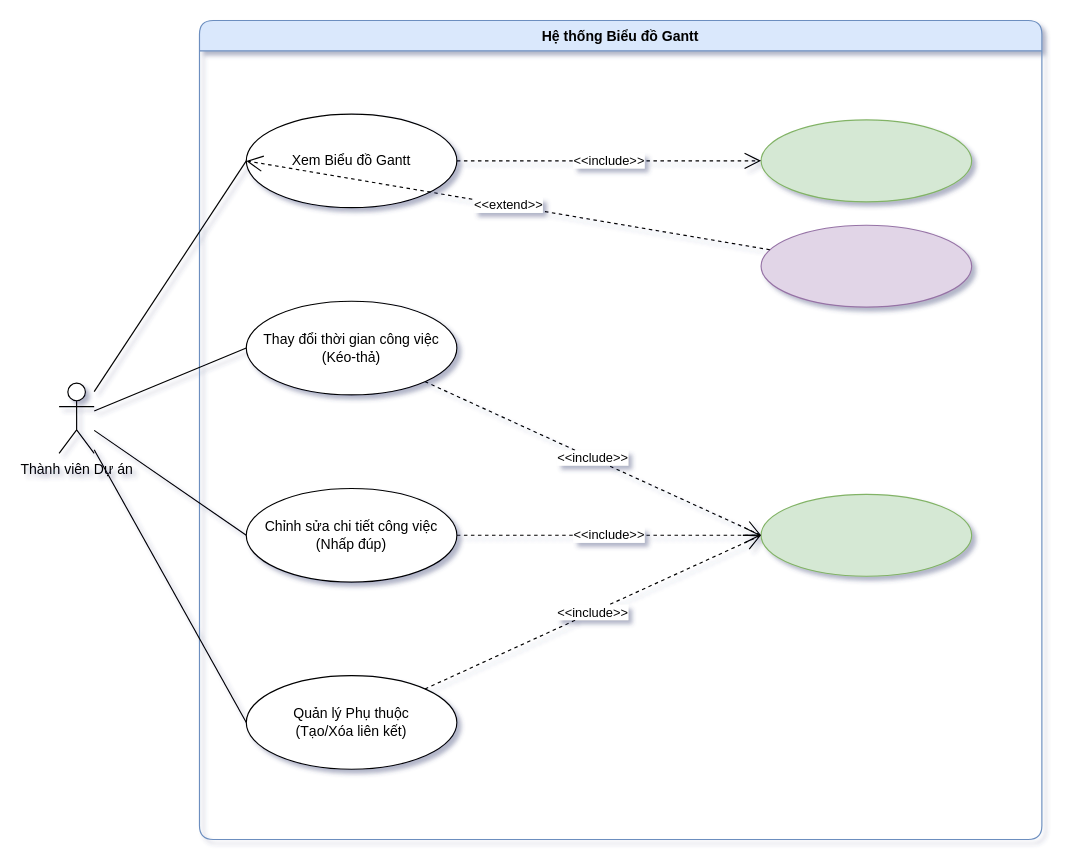
Image size: 1069x867. Some labels were removed from this diagram. The centre of each missing label's shape, as x and y in pixels:
Lưu thay đổi: the point at 866,534
Tải dữ liệu dự án (Tasks, Dependencies): the point at 866,160
Xem thông tin nhanh (Tooltip): the point at 866,265
